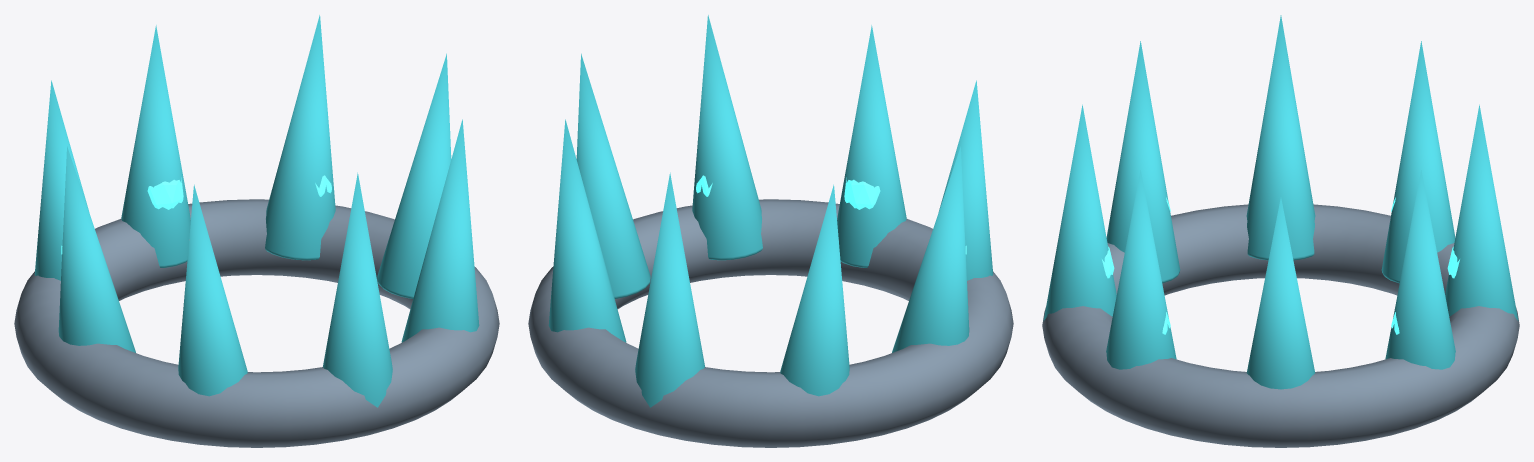
Rendered from crown.glb.
3 views of the same model, side by side, from view 1: azimuth 30°, elevation 25°; view 2: azimuth 150°, elevation 25°; view 3: azimuth 270°, elevation 25° (orthographic).
Visible parts, largest first — view 1: CROWN_BAND_PRIMARY, CROWN_POINT_ACCENT.001, CROWN_POINT_ACCENT.006, CROWN_POINT_ACCENT.002, CROWN_POINT_ACCENT.007, CROWN_POINT_ACCENT.005, CROWN_POINT_ACCENT.004, CROWN_POINT_ACCENT, CROWN_POINT_ACCENT.003, CROWN_GEM_EMISSIVE.002; view 2: CROWN_BAND_PRIMARY, CROWN_POINT_ACCENT.007, CROWN_POINT_ACCENT.002, CROWN_POINT_ACCENT.006, CROWN_POINT_ACCENT.001, CROWN_POINT_ACCENT.003, CROWN_POINT_ACCENT.004, CROWN_POINT_ACCENT, CROWN_POINT_ACCENT.005, CROWN_GEM_EMISSIVE.006; view 3: CROWN_BAND_PRIMARY, CROWN_POINT_ACCENT.004, CROWN_POINT_ACCENT.002, CROWN_POINT_ACCENT.006, CROWN_POINT_ACCENT.001, CROWN_POINT_ACCENT.007, CROWN_POINT_ACCENT.003, CROWN_POINT_ACCENT.005, CROWN_POINT_ACCENT.
Part boxes in pixels (box(x1,y1,x2,y2)): CROWN_BAND_PRIMARY: box(14, 199, 499, 447); CROWN_POINT_ACCENT.001: box(265, 15, 335, 260); CROWN_POINT_ACCENT.006: box(323, 172, 392, 407); CROWN_POINT_ACCENT.002: box(121, 25, 190, 267); CROWN_POINT_ACCENT.007: box(401, 119, 479, 342); CROWN_POINT_ACCENT.005: box(178, 184, 247, 396); CROWN_POINT_ACCENT.004: box(58, 146, 135, 352); CROWN_POINT_ACCENT: box(377, 53, 451, 298); CROWN_POINT_ACCENT.003: box(34, 80, 88, 280); CROWN_GEM_EMISSIVE.002: box(147, 177, 183, 209); CROWN_BAND_PRIMARY: box(528, 199, 1013, 447); CROWN_POINT_ACCENT.007: box(692, 15, 762, 260); CROWN_POINT_ACCENT.002: box(635, 172, 704, 407); CROWN_POINT_ACCENT.006: box(837, 25, 906, 267); CROWN_POINT_ACCENT.001: box(548, 119, 626, 342); CROWN_POINT_ACCENT.003: box(780, 184, 849, 396); CROWN_POINT_ACCENT.004: box(892, 146, 969, 352); CROWN_POINT_ACCENT: box(576, 53, 650, 298); CROWN_POINT_ACCENT.005: box(939, 80, 993, 280); CROWN_GEM_EMISSIVE.006: box(844, 177, 880, 209); CROWN_BAND_PRIMARY: box(1042, 204, 1519, 447); CROWN_POINT_ACCENT.004: box(1246, 15, 1315, 260); CROWN_POINT_ACCENT.002: box(1445, 104, 1518, 320); CROWN_POINT_ACCENT.006: box(1043, 104, 1116, 320); CROWN_POINT_ACCENT.001: box(1385, 170, 1455, 369); CROWN_POINT_ACCENT.007: box(1106, 170, 1176, 369); CROWN_POINT_ACCENT.003: box(1381, 41, 1455, 283); CROWN_POINT_ACCENT.005: box(1106, 41, 1180, 283); CROWN_POINT_ACCENT: box(1246, 197, 1315, 389).
Bounding box in the file's own units: 1.66 × 0.98 × 1.66.
